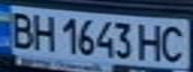1: (57, 15, 81, 55)
3: (112, 19, 136, 60)
4: (93, 18, 118, 58)
6: (75, 16, 96, 56)
B: (3, 8, 39, 50)
C: (157, 21, 190, 63)
H: (136, 20, 166, 62), (27, 11, 57, 52)
